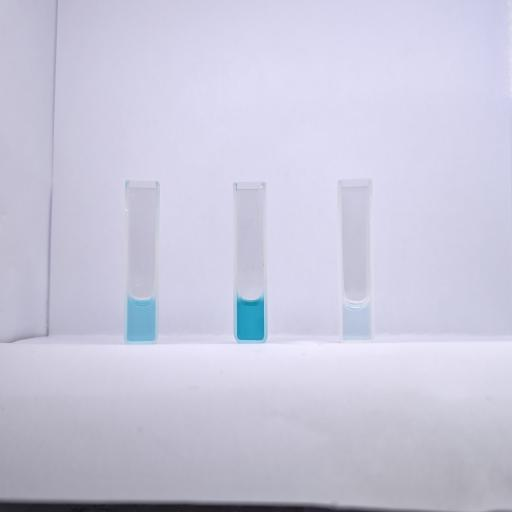cuvette: (335, 176, 377, 345), (123, 177, 163, 345), (232, 179, 270, 344)
liquid: (236, 296, 264, 340), (128, 296, 155, 340), (342, 300, 370, 338)
